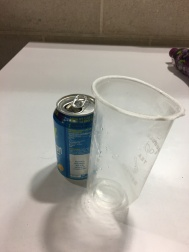can_blue: (52, 83, 105, 188)
